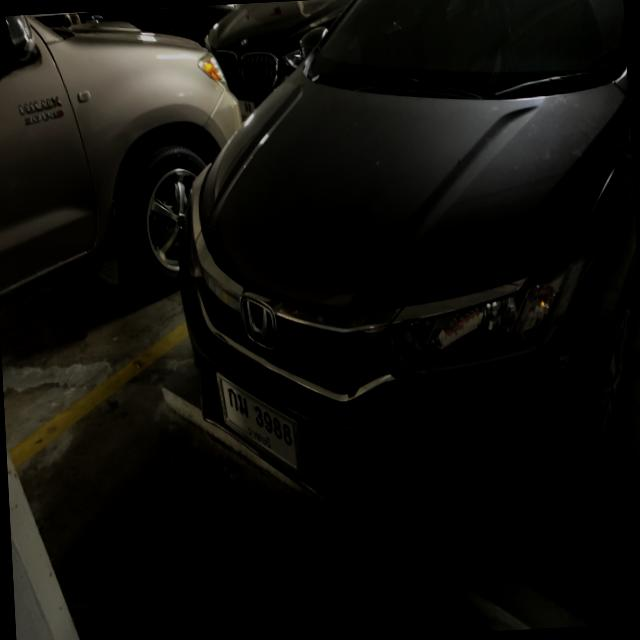license_plate: (214, 366, 305, 484)
